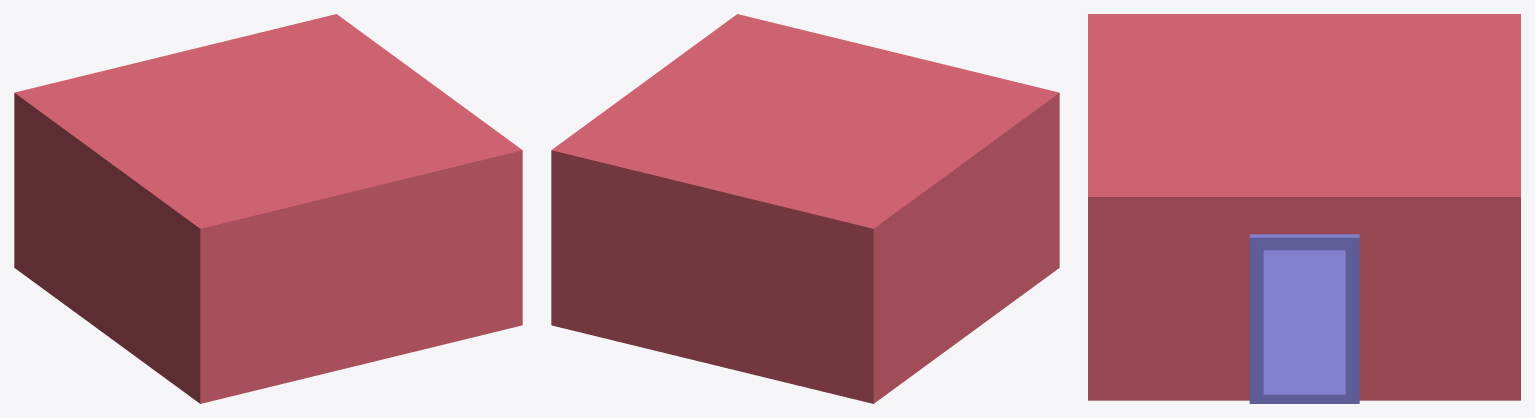
File: room.dae
3 views of the same model, side by side, from view 1: azimuth 30°, elevation 25°; view 2: azimuth 150°, elevation 25°; view 3: azimuth 270°, elevation 25° (orthographic). The views are drawn at different scales.
Parts seen in each view (by area): view 1: Plane; view 2: Plane; view 3: Plane, Cube.
Part boxes in pixels (<box>): Plane: <box>14,14,522,403</box>; Plane: <box>551,14,1059,403</box>; Plane: <box>1088,14,1520,400</box>; Cube: <box>1249,234,1359,403</box>.
Bounding box in the file's own units: 2.12 × 2.08 × 1.08.
